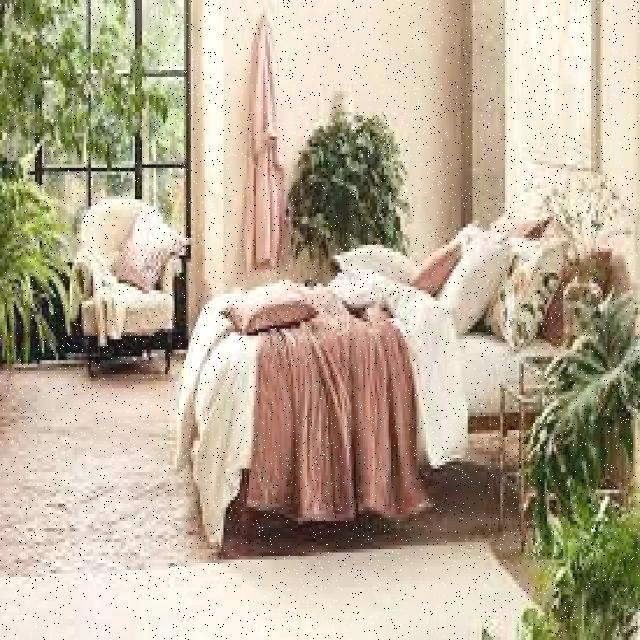bed: (192, 188, 575, 480)
